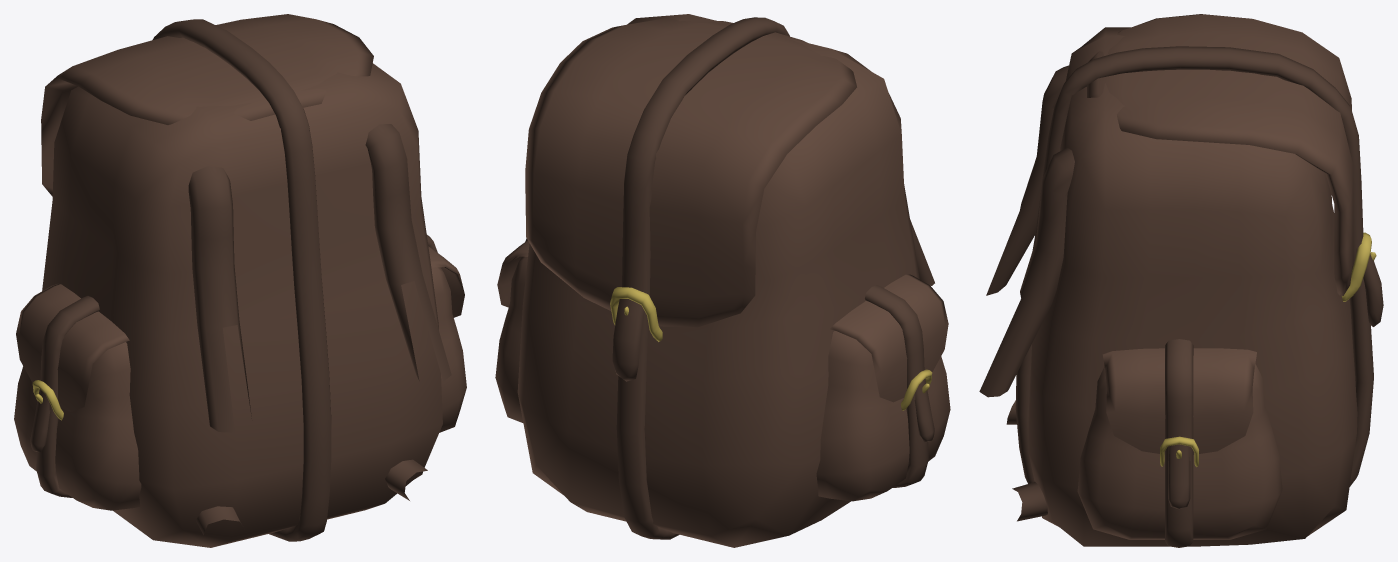
File: backpack.glb
3 renders of one model, left to right at view 1: azimuth 30°, elevation 25°; view 2: azimuth 150°, elevation 25°; view 3: azimuth 270°, elevation 25°, orthographic.
Parts seen in each view (by area): view 1: Backpack; view 2: Backpack; view 3: Backpack.
Part boxes in pixels (x1,y1,x2,y2): Backpack: (14, 14, 466, 547); Backpack: (495, 14, 950, 547); Backpack: (979, 14, 1383, 547).
Size of the model in its own units: 0.3415 by 0.3612 by 0.2832.
